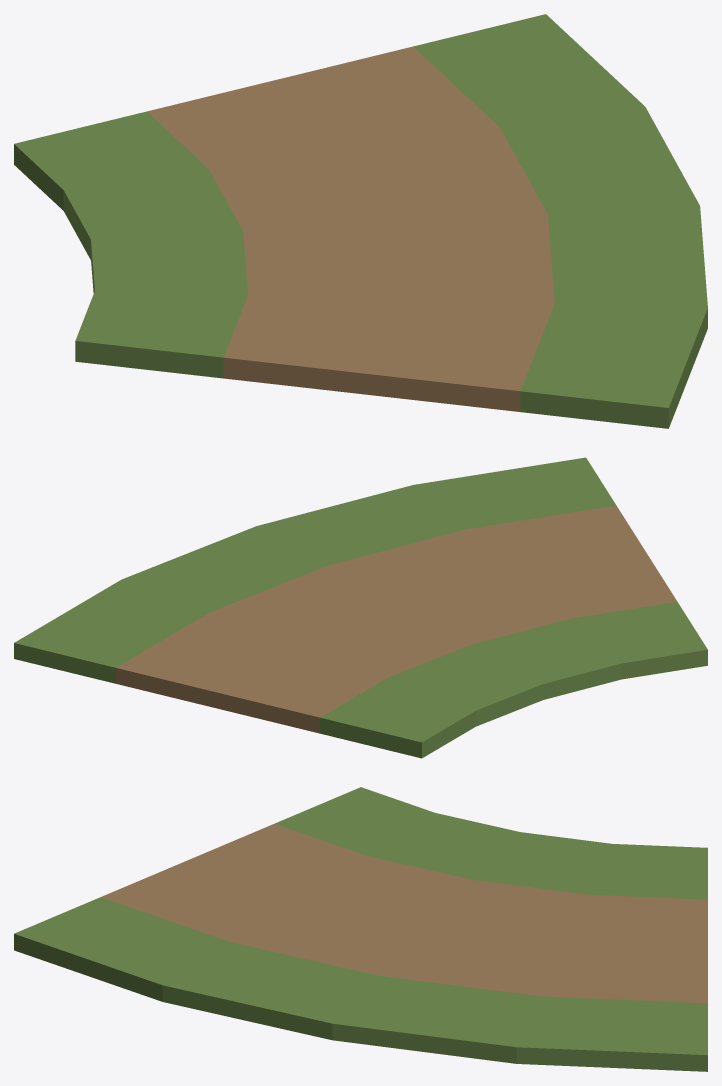
The model's file is Road_1Lane_Dirt_NoSidewalk_Curve45_R.glb.
The picture shows the model from 3 angles, top to bottom: view 1: azimuth 30°, elevation 25°; view 2: azimuth 150°, elevation 25°; view 3: azimuth 270°, elevation 25°; orthographic projection. The views are drawn at different scales.
Parts seen in each view (by area): view 1: Road_1Lane_Dirt_NoSidewalk_Curve45_R_Grass-edge, Road_1Lane_Dirt_NoSidewalk_Curve45_R_Dirt; view 2: Road_1Lane_Dirt_NoSidewalk_Curve45_R_Grass-edge, Road_1Lane_Dirt_NoSidewalk_Curve45_R_Dirt; view 3: Road_1Lane_Dirt_NoSidewalk_Curve45_R_Grass-edge, Road_1Lane_Dirt_NoSidewalk_Curve45_R_Dirt.
Part boxes in pixels (x1,y1,x2,y2): Road_1Lane_Dirt_NoSidewalk_Curve45_R_Grass-edge: [14, 14, 707, 428]; Road_1Lane_Dirt_NoSidewalk_Curve45_R_Dirt: [147, 46, 554, 411]; Road_1Lane_Dirt_NoSidewalk_Curve45_R_Grass-edge: [14, 457, 707, 758]; Road_1Lane_Dirt_NoSidewalk_Curve45_R_Dirt: [116, 505, 677, 733]; Road_1Lane_Dirt_NoSidewalk_Curve45_R_Grass-edge: [14, 787, 707, 1071]; Road_1Lane_Dirt_NoSidewalk_Curve45_R_Dirt: [101, 824, 707, 1003].
Size of the model in its own units: 10.34 by 0.3 by 11.31.
